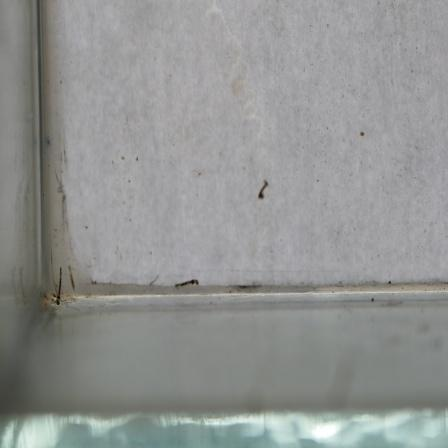Jentik-Nyamuk: (52, 265, 67, 311), (172, 272, 202, 294), (253, 178, 271, 203)
